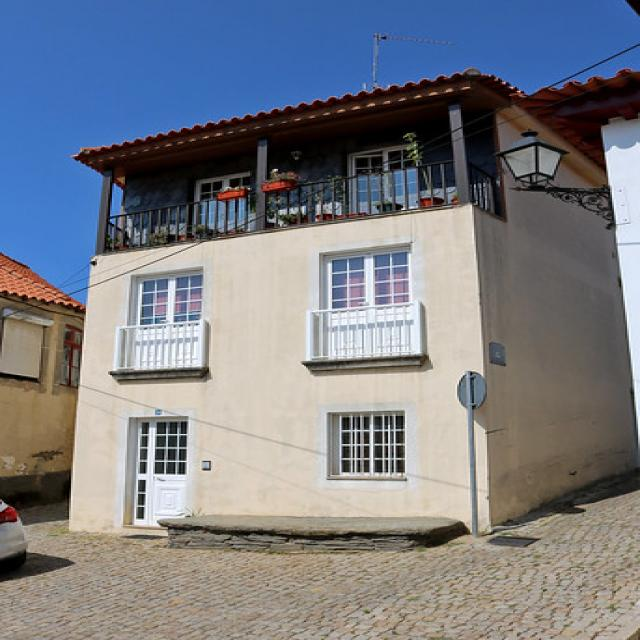Normal_building: (52, 66, 640, 550)
